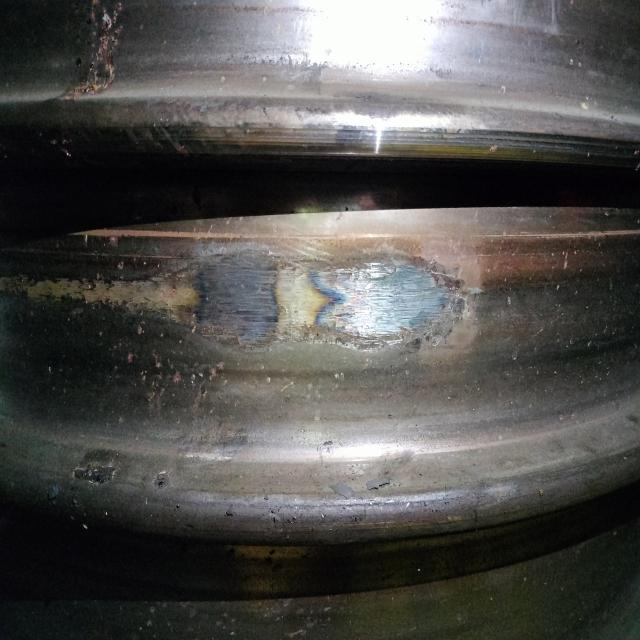flat: (17, 228, 478, 372)
